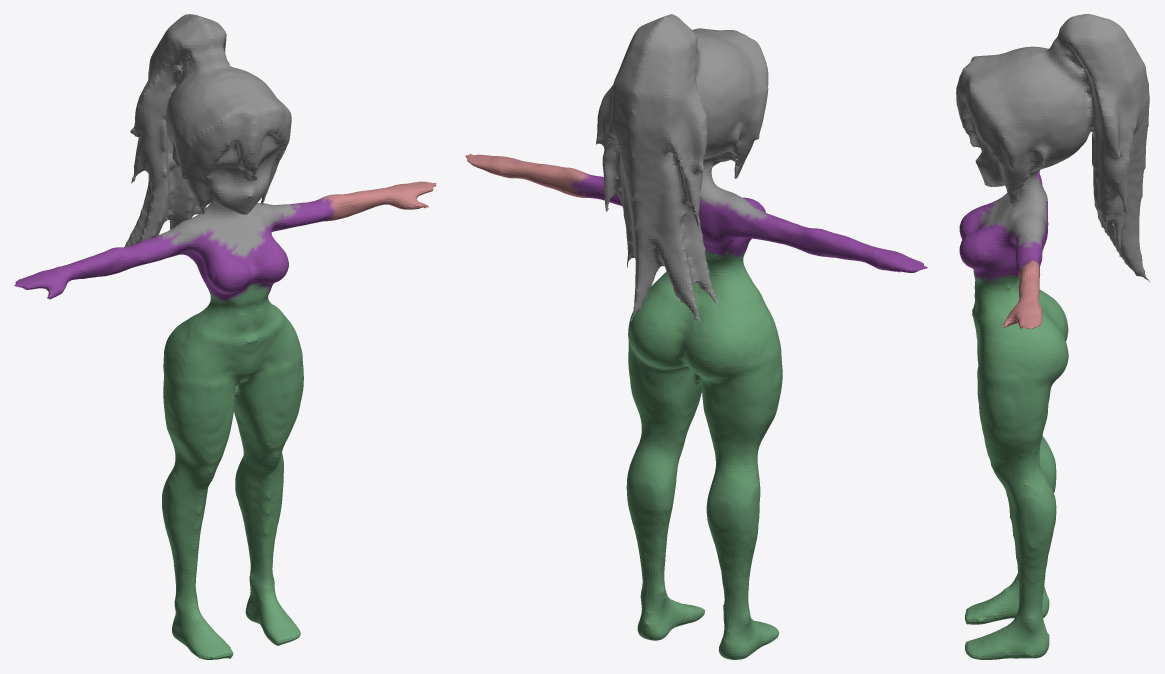
File: p3sam_colored.glb
3 views of the same model, side by side, from view 1: azimuth 30°, elevation 25°; view 2: azimuth 150°, elevation 25°; view 3: azimuth 270°, elevation 25° (orthographic). The views are drawn at different scales.
Visible parts, largest first — view 1: world; view 2: world; view 3: world.
Part boxes in pixels (x1,y1,x2,y2): world: [14, 14, 436, 659]; world: [465, 14, 927, 659]; world: [956, 14, 1150, 659].
Bounding box in the file's own units: 1.46 × 1.96 × 0.5555.
